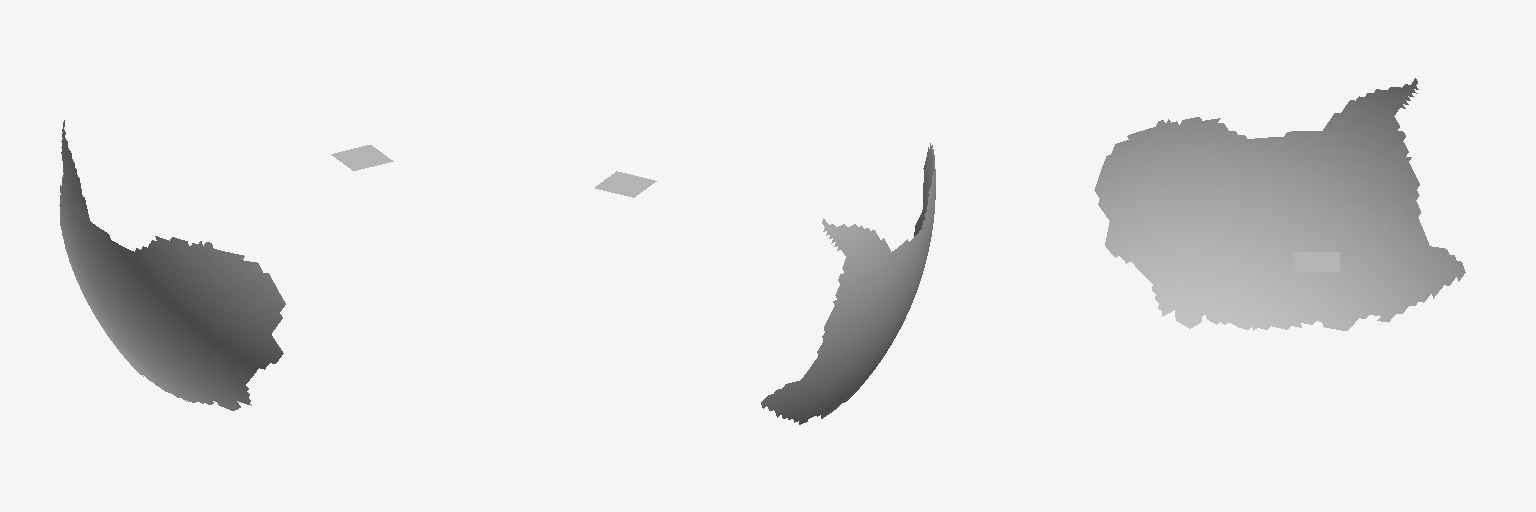
Rendered from SouthDesert.obj.
The picture shows the model from 3 angles: view 1: azimuth 30°, elevation 25°; view 2: azimuth 150°, elevation 25°; view 3: azimuth 270°, elevation 25°; orthographic projection.
Parts seen in each view (by area): view 1: Icosphere.004, Plane; view 2: Icosphere.004, Plane; view 3: Icosphere.004, Plane.
Boxes of the visible parts, x1=… form: Icosphere.004: x1=59, y1=120, x2=285, y2=410; Plane: x1=331, y1=145, x2=393, y2=170; Icosphere.004: x1=761, y1=143, x2=935, y2=424; Plane: x1=595, y1=171, x2=656, y2=197; Icosphere.004: x1=1094, y1=78, x2=1465, y2=330; Plane: x1=1293, y1=252, x2=1339, y2=271.
Size of the model in its own units: 1.07 by 0.8371 by 1.2.